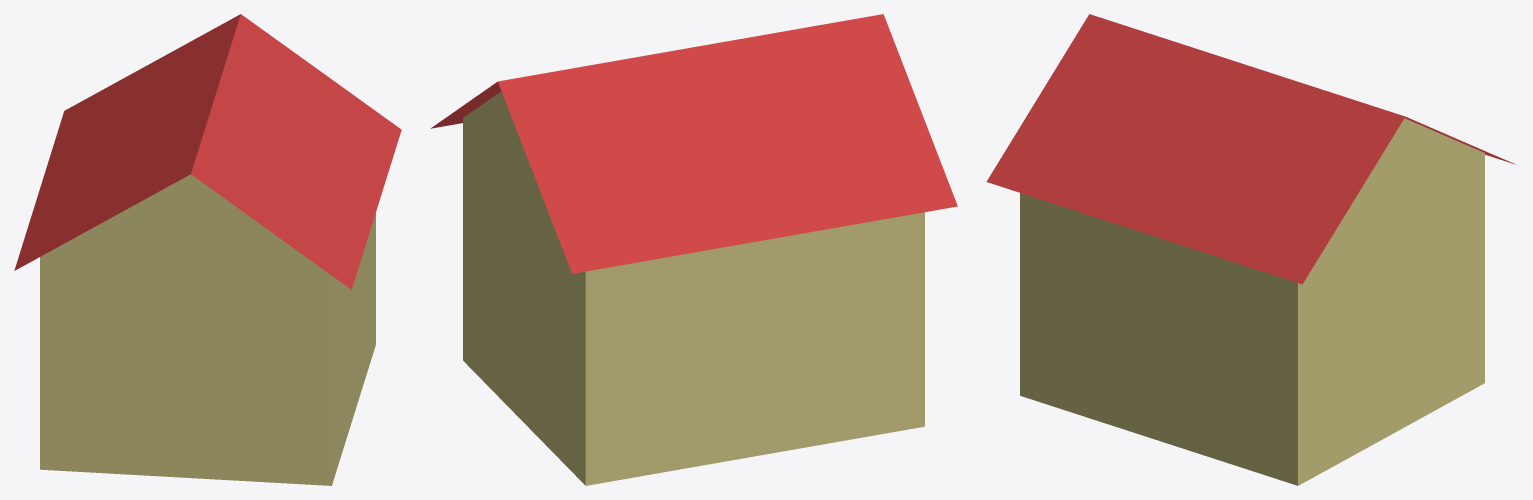
3 views of the same model, side by side, from view 1: azimuth 30°, elevation 25°; view 2: azimuth 150°, elevation 25°; view 3: azimuth 270°, elevation 25° (orthographic). The views are drawn at different scales.
Parts seen in each view (by area): view 1: group_5, group_3, group_4; view 2: group_5, group_3, group_4; view 3: group_5, group_3.
Part boxes in pixels (<box>): group_5: <box>40,174,375,485</box>; group_3: <box>14,14,401,289</box>; group_4: <box>90,14,240,207</box>; group_5: <box>463,91,924,485</box>; group_3: <box>498,15,957,273</box>; group_4: <box>431,14,893,270</box>; group_5: <box>1020,118,1484,485</box>; group_3: <box>986,14,1479,284</box>.
Size of the model in its own units: 16.35 by 16.6 by 11.25.
